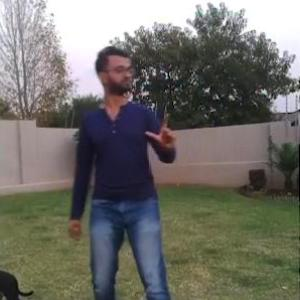land_hand: (144, 110, 181, 152)
